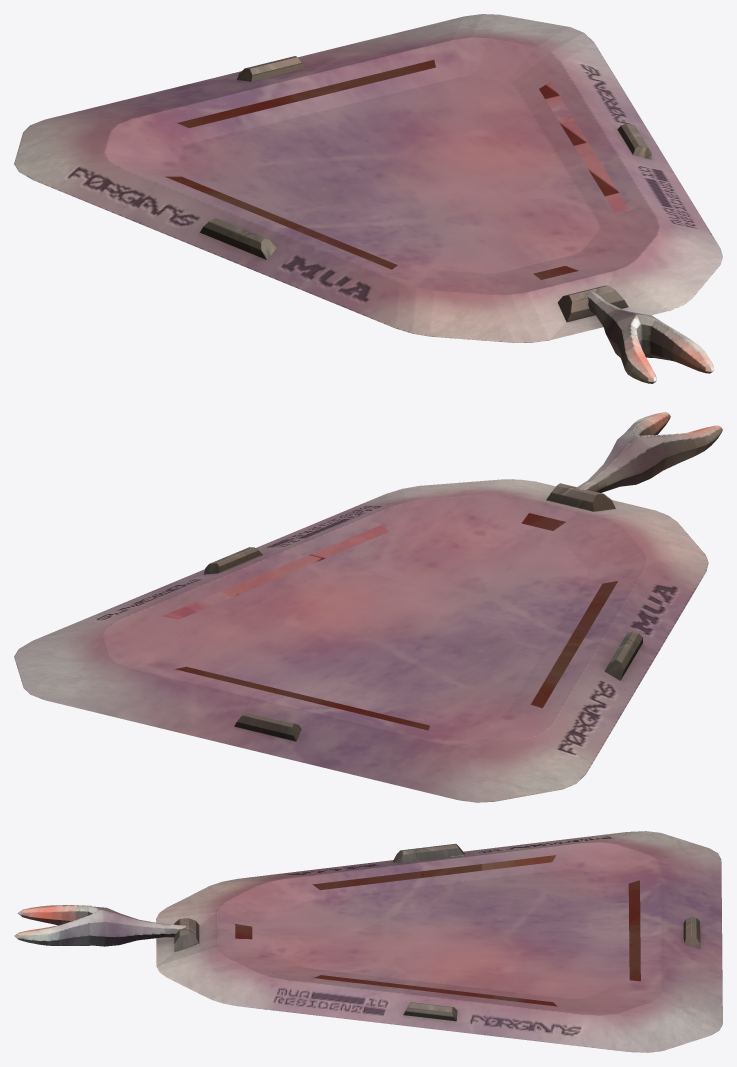
Rendered from MinecartPlatform.glb.
3 renders of one model, top to bottom at view 1: azimuth 30°, elevation 25°; view 2: azimuth 150°, elevation 25°; view 3: azimuth 270°, elevation 25°, orthographic. The views are drawn at different scales.
Visible parts, largest first — view 1: 立方体.010; view 2: 立方体.010; view 3: 立方体.010.
Part boxes in pixels (bbox=[...]): 立方体.010: bbox=[14, 14, 722, 383]; 立方体.010: bbox=[14, 412, 722, 802]; 立方体.010: bbox=[14, 831, 722, 1052].
Size of what is drawn, in the model's own units: 10.02 by 0.7256 by 13.53.
2 materials, 2 textured.
